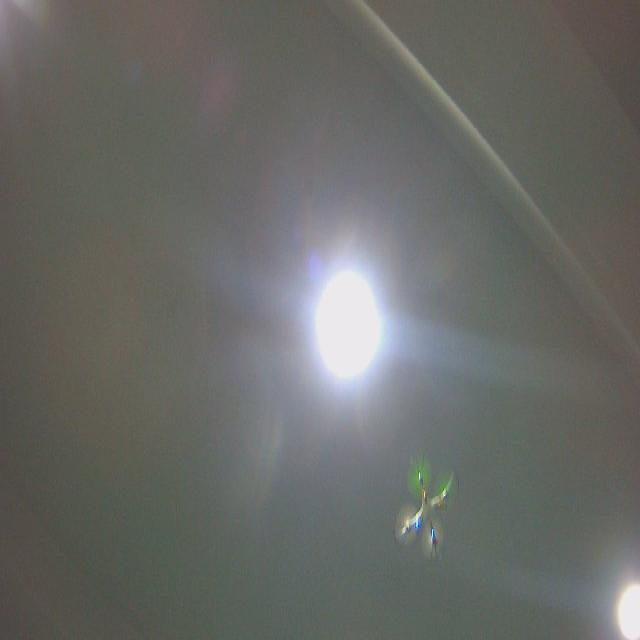drone: (390, 446, 463, 567)
